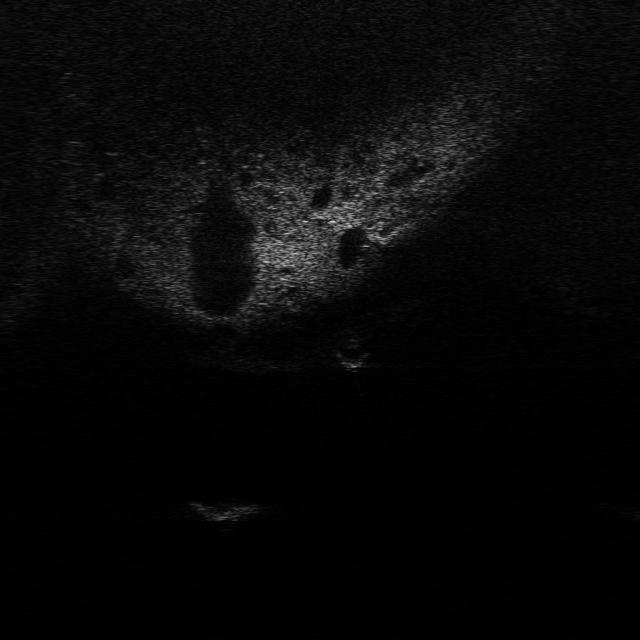ball: (330, 339, 370, 370)
cube: (186, 496, 264, 524)
